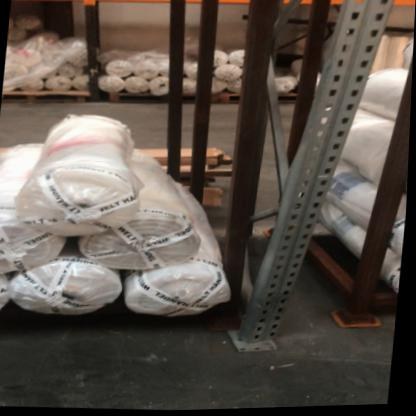vertical_damage: (223, 311, 305, 368)
